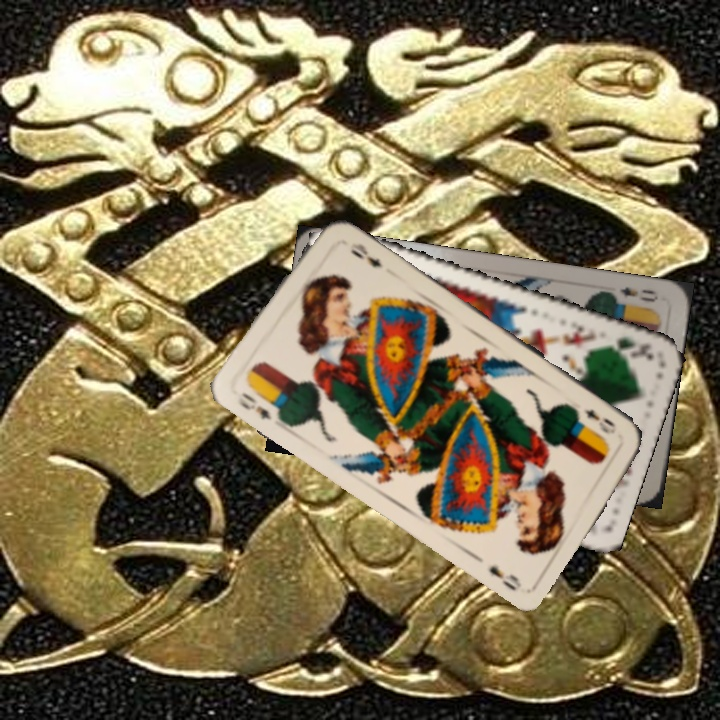EO: (234, 388, 275, 423), (606, 283, 661, 307), (581, 404, 619, 437)
GK: (599, 332, 657, 364)
